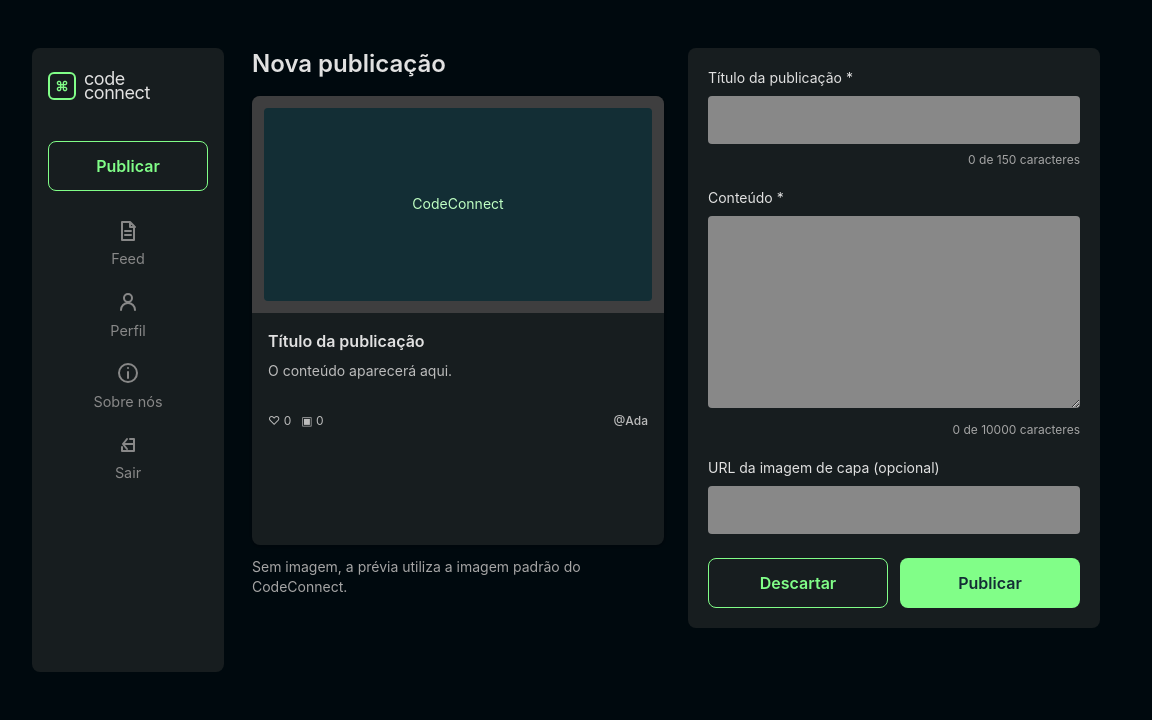
Test case: PublishPage › keeps the form for an invalid successful response
In the field labelled "Título da publicação *": (894, 120) [708, 96, 1080, 144], type "Título válido"
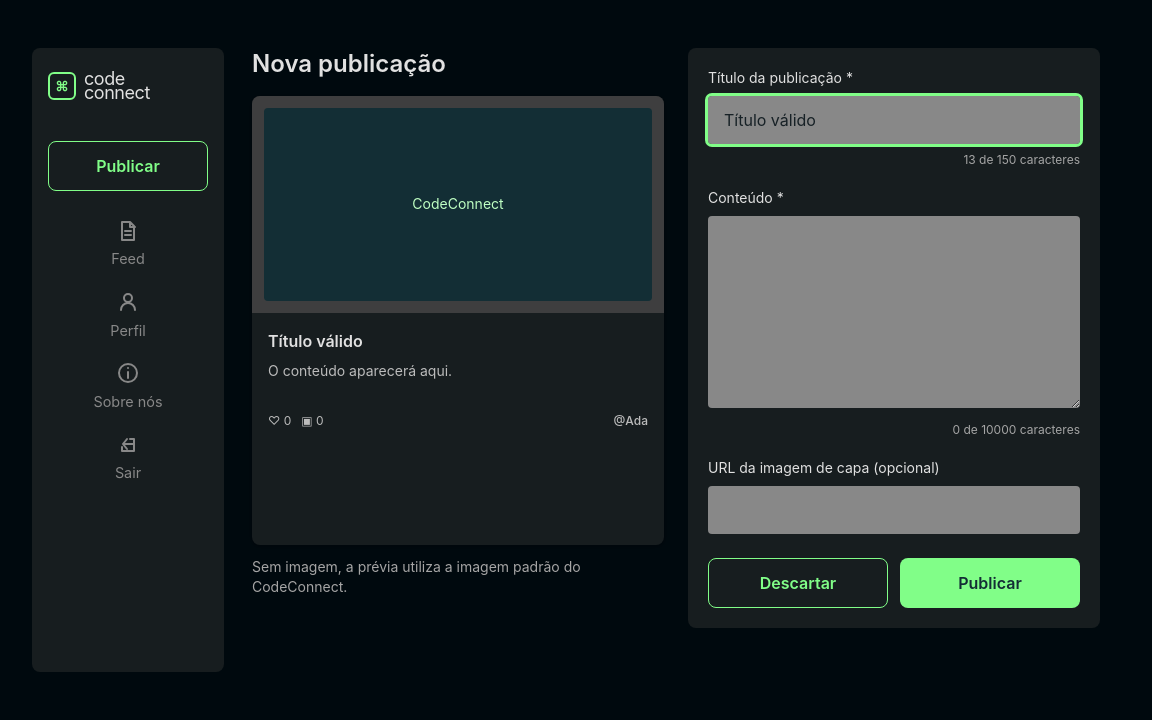
In the text box labelled "Conteúdo *": (894, 312) [708, 216, 1080, 408], type "Conteúdo válido"
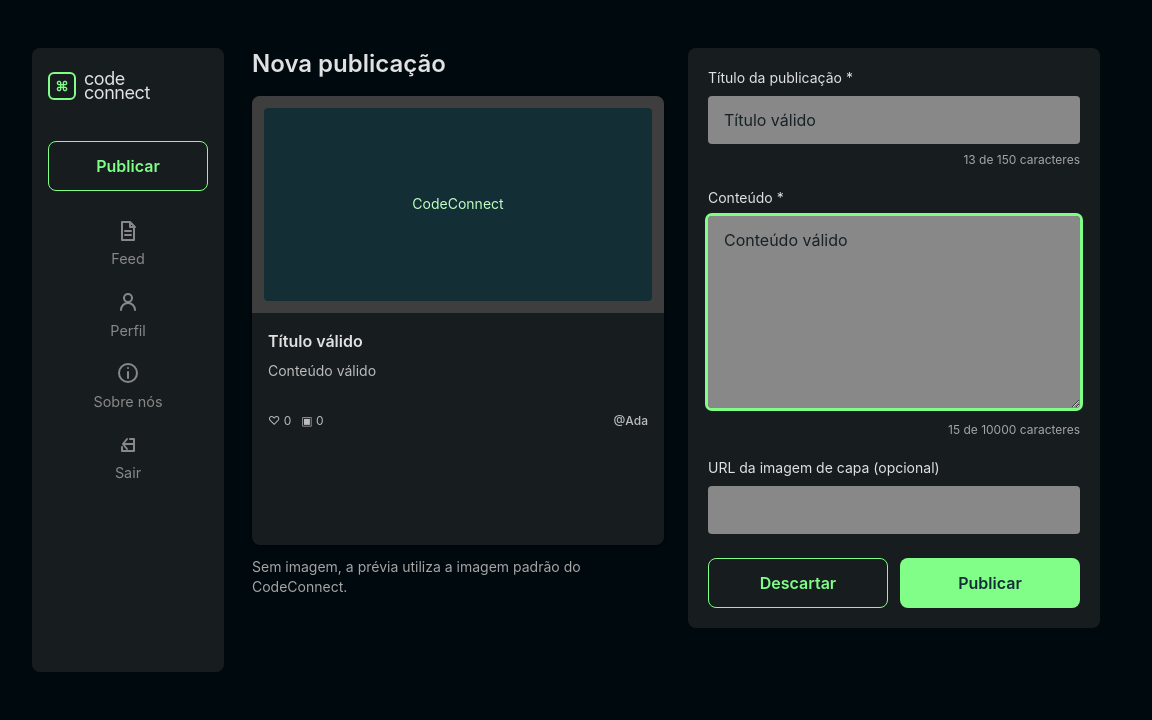
Click the button "Publicar": (990, 583) [900, 558, 1080, 608]
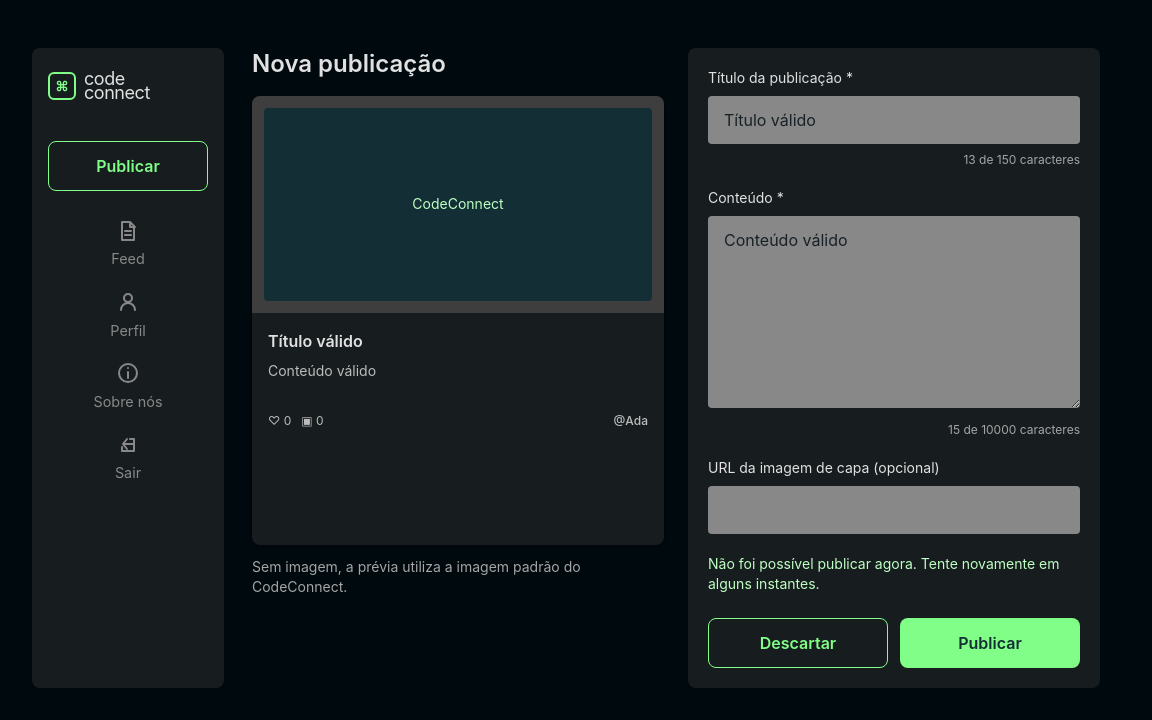
Check: the button "Publicar" is enabled, box [900, 618, 1080, 668]
Check: the message shows "Não foi possível publicar agora", box [708, 555, 1060, 592]
